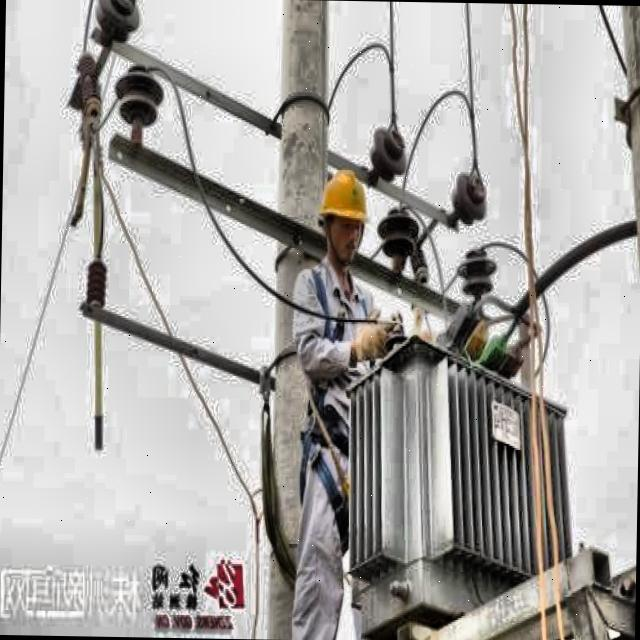helmet: (312, 164, 373, 268)
